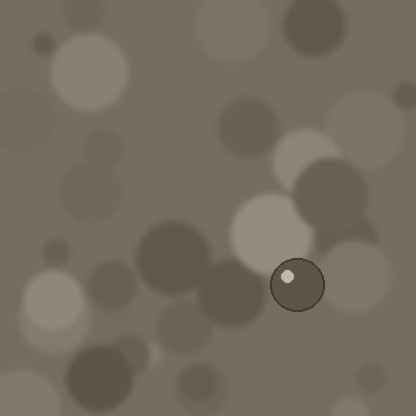gota: (270, 260, 324, 316)
